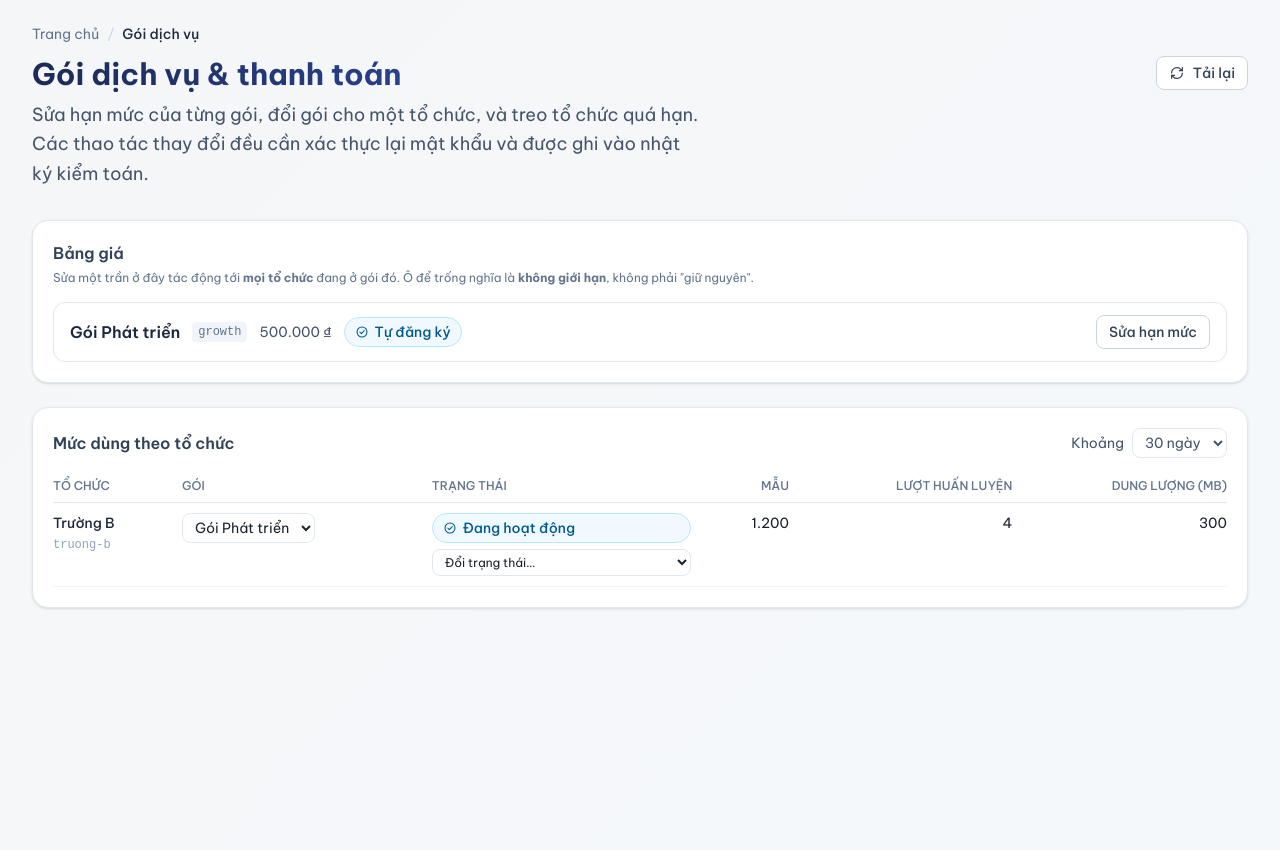
Scenario: Sửa hạn mức của một gói › ô trống ở một trần KHÔNG cho phép null thì chặn nút Lưu
This screenshot has width=1280, height=850.
Click the button "Sửa hạn mức" at [1153, 332], box [1096, 315, 1210, 349]
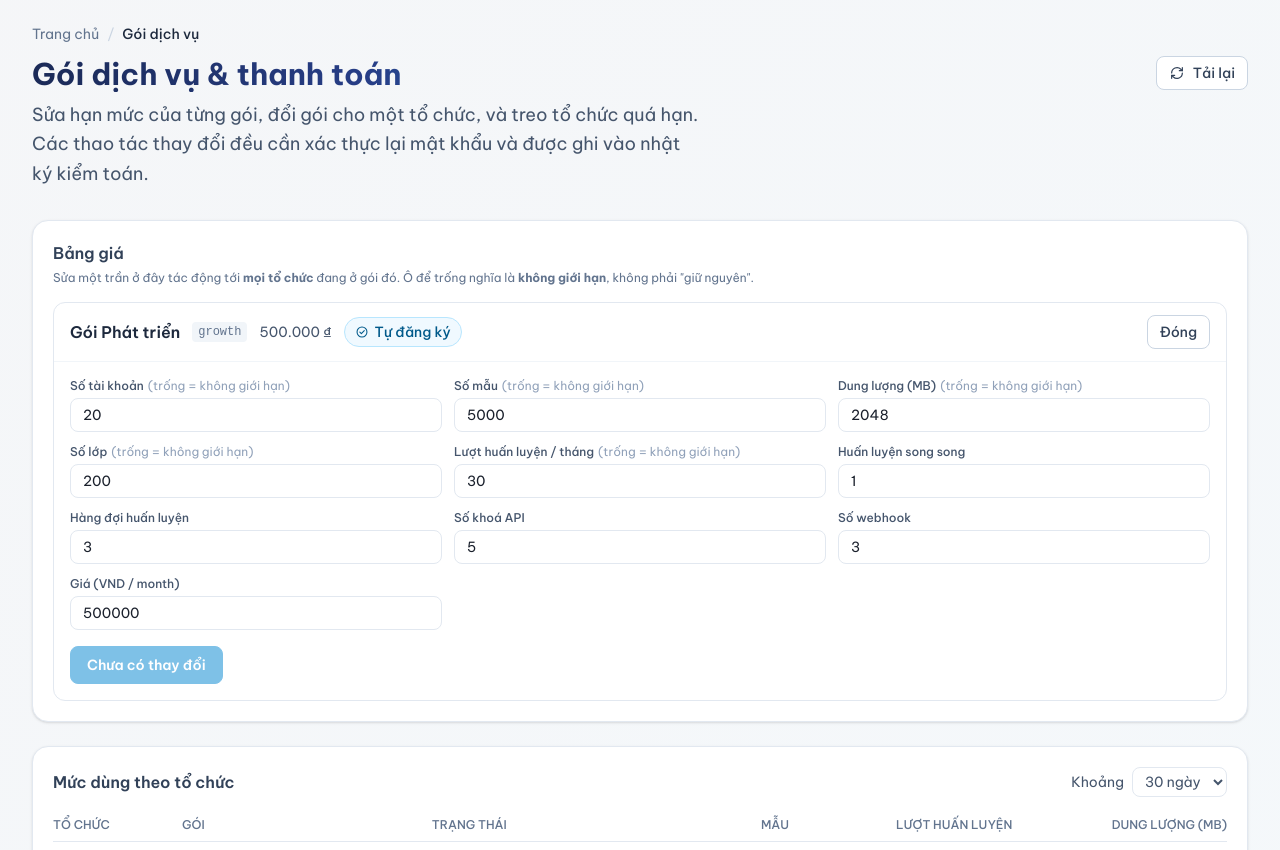
Clear the field labelled "Số khoá API" at [640, 547], box [454, 530, 826, 564]
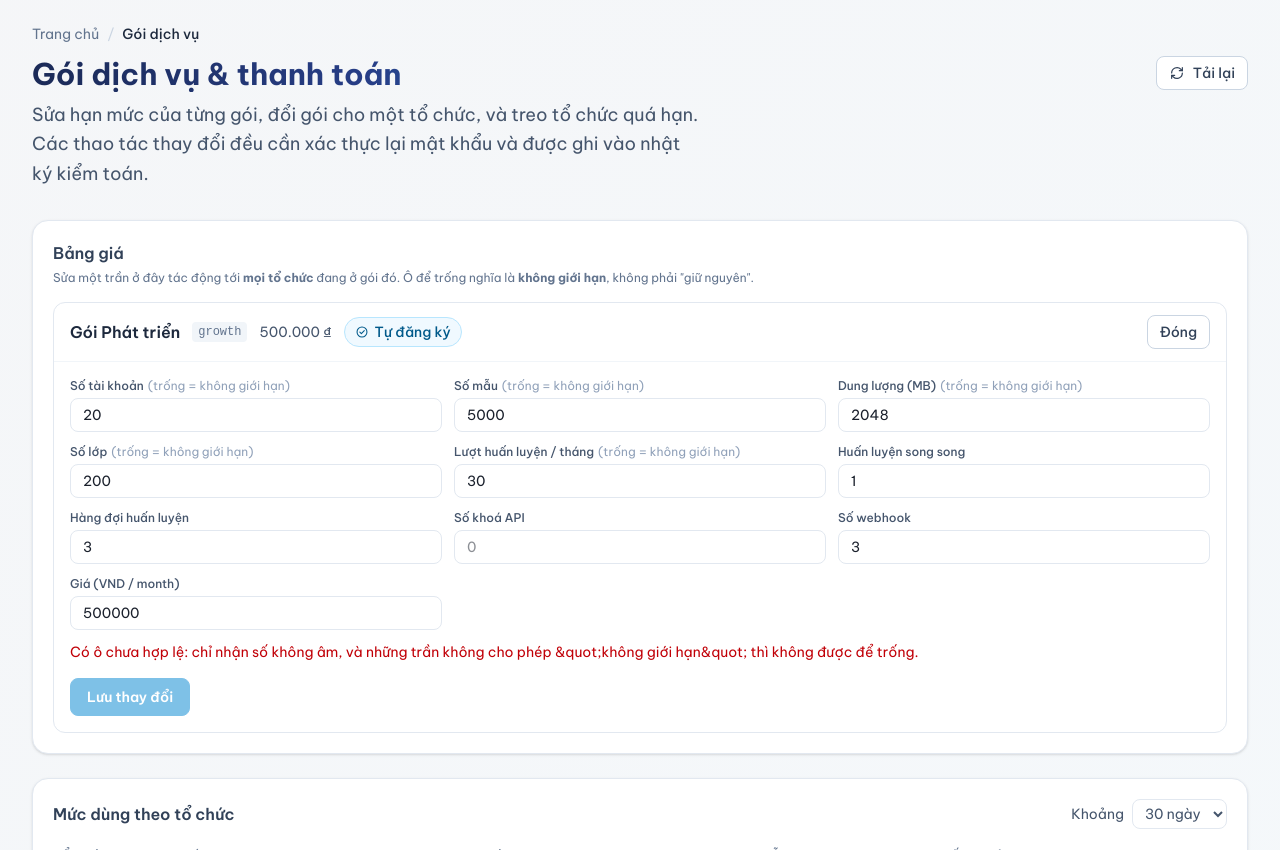
Expected: the button "Lưu thay đổi" is disabled, [70, 678, 190, 716]
Expected: the text "không được để trống" is shown, [70, 643, 918, 661]
